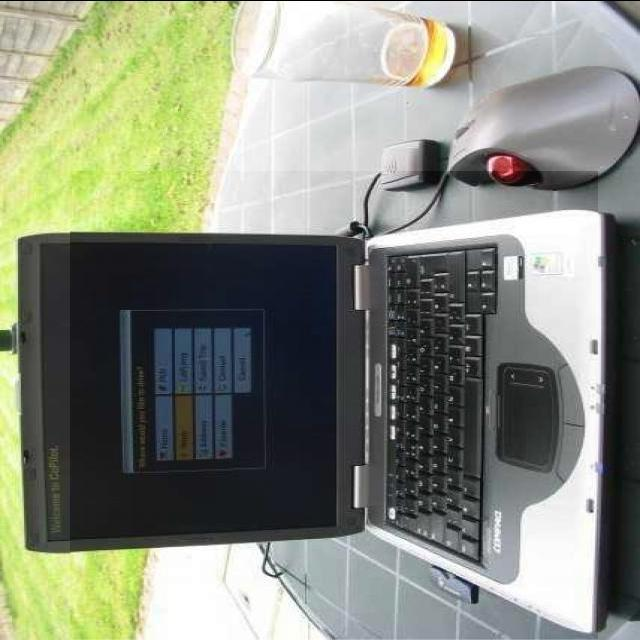-keyboard-: (70, 172, 598, 640)
